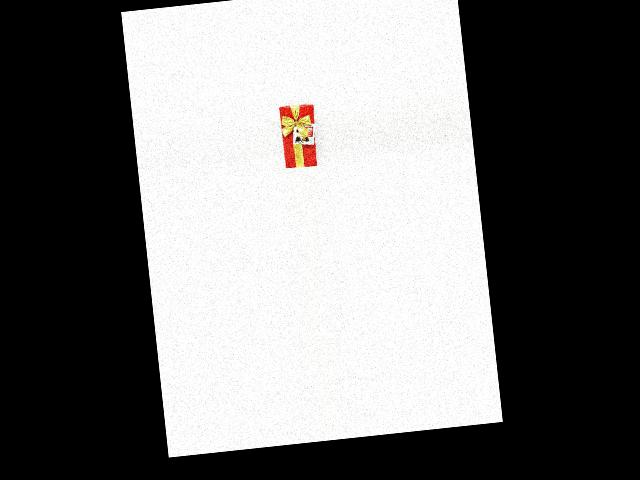chocolate: (275, 101, 319, 168)
